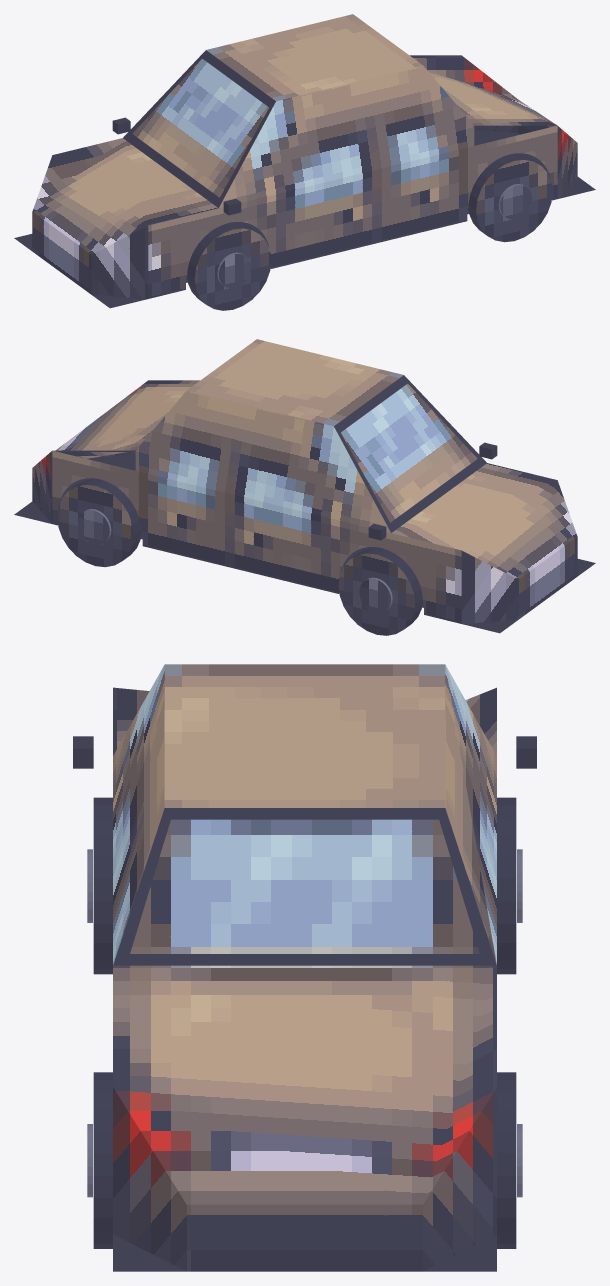
Rendered from unindexed-sedan-beige-v1.glb.
3 views of the same model, one above another, from view 1: azimuth 30°, elevation 25°; view 2: azimuth 150°, elevation 25°; view 3: azimuth 270°, elevation 25° (orthographic). The views are drawn at different scales.
Parts seen in each view (by area): view 1: Passenger-body-east, Cabin-windows-east, Hood, Roof, Windshield-glass, Tire_FL, Tire_RL, Trunk, Front-corner--1, Windshield-frame, Front-fascia, Underfloor (+5 smaller); view 2: Passenger-body-west, Cabin-windows-west, Hood, Roof, Windshield-glass, Trunk, Tire_FR, Tire_RR, Front-corner-1, Windshield-frame, Front-fascia, Underfloor (+5 smaller); view 3: Trunk, Rear-window-glass, Roof, Rear-fascia, Rear-window-frame, Cabin-windows-east, Cabin-windows-west, Rear-corner-1, Rear-corner--1, Tire_FL, Tire_FR, Tire_RL (+3 smaller).
Boxes of the visible parts, <box> form: Passenger-body-east: <box>148,125,557,298</box>; Cabin-windows-east: <box>219,65,474,207</box>; Hood: <box>32,138,218,254</box>; Roof: <box>206,14,422,101</box>; Windshield-glass: <box>132,58,268,197</box>; Tire_FL: <box>187,222,271,310</box>; Tire_RL: <box>468,154,552,242</box>; Trunk: <box>410,55,557,125</box>; Front-corner--1: <box>91,226,148,298</box>; Windshield-frame: <box>123,50,275,207</box>; Front-fascia: <box>32,211,91,294</box>; Underfloor: <box>14,130,595,308</box>; Passenger-body-west: <box>52,450,461,623</box>; Cabin-windows-west: <box>135,390,390,532</box>; Hood: <box>391,463,577,579</box>; Roof: <box>187,339,403,426</box>; Windshield-glass: <box>341,383,477,522</box>; Trunk: <box>53,380,199,458</box>; Tire_FR: <box>338,547,422,635</box>; Tire_RR: <box>57,479,141,567</box>; Front-corner-1: <box>461,551,518,623</box>; Windshield-frame: <box>334,375,486,532</box>; Front-fascia: <box>518,536,577,619</box>; Underfloor: <box>14,455,595,633</box>; Trunk: <box>113,965,496,1204</box>; Rear-window-glass: <box>130,819,479,953</box>; Roof: <box>164,664,445,807</box>; Rear-fascia: <box>187,1204,422,1271</box>; Rear-window-frame: <box>113,808,496,965</box>; Cabin-windows-east: <box>113,665,164,964</box>; Cabin-windows-west: <box>445,665,496,964</box>; Rear-corner-1: <box>423,1087,496,1271</box>; Rear-corner--1: <box>113,1087,186,1271</box>; Tire_FL: <box>93,797,112,974</box>; Tire_FR: <box>497,797,516,974</box>; Tire_RL: <box>93,1072,112,1248</box>.
Size of the model in its own units: 76 by 27 by 31.4.
1 material, 1 textured.
